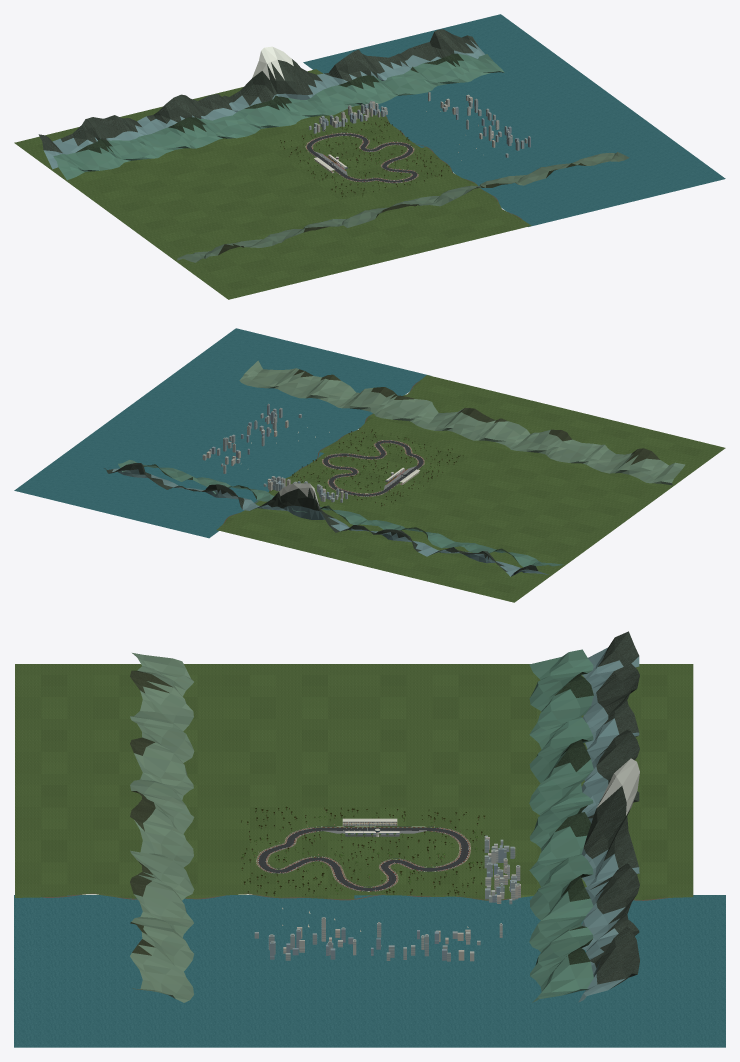
Rendered from Marina.glb.
3 renders of one model, top to bottom at view 1: azimuth 30°, elevation 25°; view 2: azimuth 150°, elevation 25°; view 3: azimuth 270°, elevation 25°, orthographic. The views are drawn at different scales.
Visible parts, largest first — view 1: S260_0_-2, S260_-2_-2, S260_1_-2, S260_-1_-2, S260_2_-2, S260_-2_0, S260_1_1, S260_-2_1, S260_-2_-1, S260_-3_-2, S260_2_1, S260_2_0 (+33 smaller); view 2: S260_-2_0, S260_1_-2, S260_1_1, S260_-2_-1, S260_-2_-2, S260_2_-2, S260_0_-2, S260_-2_1, S260_2_1, S260_2_-1, S260_2_0, S260_-1_1 (+36 smaller); view 3: S260_-2_0, S260_2_-2, S260_0_-2, S260_1_1, S260_2_1, S260_1_-2, S260_2_0, S260_-2_-1, S260_2_-1, S260_-2_1, S260_-2_-2, S260_0_1 (+48 smaller).
Part boxes in pixels (x1=…): S260_0_-2: x1=252, y1=46, x2=362, y2=132; S260_-2_-2: x1=87, y1=98, x2=214, y2=170; S260_1_-2: x1=324, y1=49, x2=443, y2=113; S260_-1_-2: x1=174, y1=79, x2=285, y2=149; S260_2_-2: x1=400, y1=29, x2=519, y2=95; S260_-2_0: x1=170, y1=180, x2=304, y2=237; S260_1_1: x1=448, y1=160, x2=577, y2=211; S260_-2_1: x1=220, y1=216, x2=346, y2=267; S260_-2_-1: x1=129, y1=150, x2=255, y2=201; S260_-3_-2: x1=31, y1=119, x2=128, y2=184; S260_2_1: x1=532, y1=141, x2=653, y2=193; S260_2_0: x1=488, y1=109, x2=606, y2=159; S260_-2_0: x1=471, y1=461, x2=603, y2=517; S260_1_-2: x1=162, y1=471, x2=283, y2=521; S260_1_1: x1=294, y1=374, x2=419, y2=426; S260_-2_-1: x1=431, y1=497, x2=555, y2=547; S260_-2_-2: x1=390, y1=526, x2=514, y2=576; S260_2_-2: x1=87, y1=452, x2=206, y2=504; S260_0_-2: x1=243, y1=483, x2=359, y2=539; S260_-2_1: x1=520, y1=429, x2=635, y2=481; S260_2_1: x1=219, y1=356, x2=339, y2=407; S260_2_-1: x1=133, y1=421, x2=249, y2=470; S260_2_0: x1=176, y1=389, x2=293, y2=439; S260_-1_1: x1=450, y1=409, x2=552, y2=460; S260_-2_0: x1=223, y1=708, x2=380, y2=773; S260_2_-2: x1=506, y1=926, x2=652, y2=1008; S260_0_-2: x1=510, y1=758, x2=641, y2=886; S260_1_1: x1=82, y1=872, x2=228, y2=949; S260_2_1: x1=82, y1=932, x2=228, y2=1008; S260_1_-2: x1=506, y1=863, x2=652, y2=949; S260_2_0: x1=228, y1=928, x2=367, y2=1008; S260_-2_-1: x1=380, y1=708, x2=510, y2=773; S260_2_-1: x1=367, y1=934, x2=505, y2=1008; S260_-2_1: x1=93, y1=691, x2=223, y2=773; S260_-2_-2: x1=510, y1=669, x2=641, y2=773; S260_0_1: x1=93, y1=810, x2=223, y2=889.
Bounding box in the file's own units: 1670 × 166 × 1310.
Materials: 17 (15 with a texture image).
